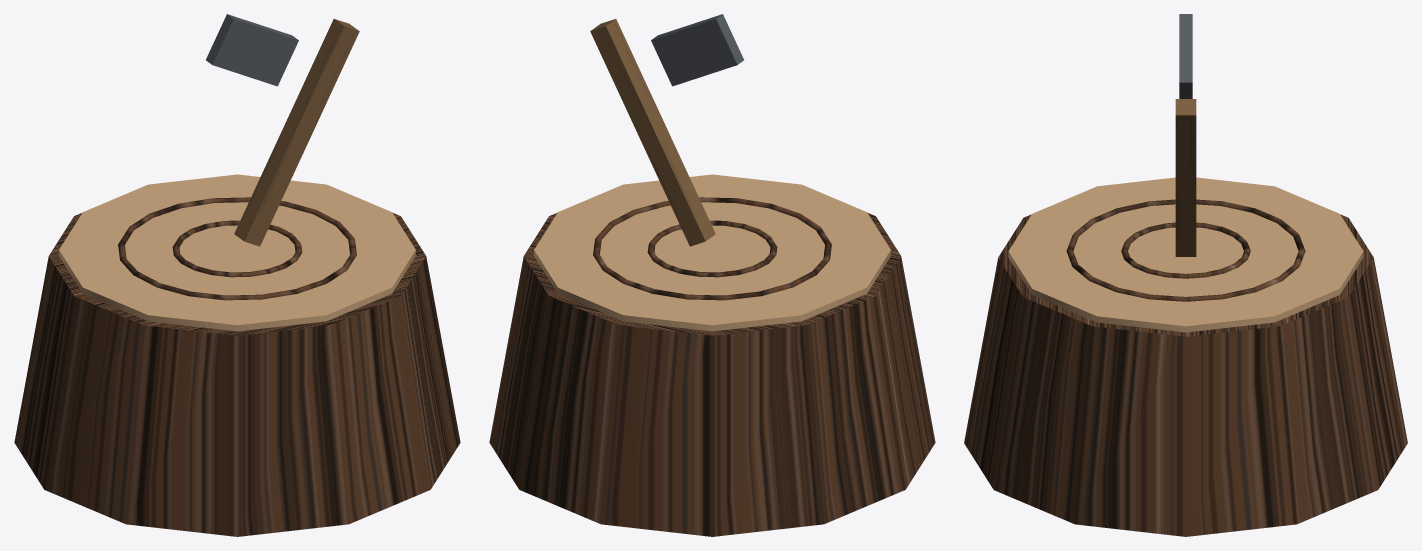
Rendered from stump.glb.
The picture shows the model from 3 angles, left to right: view 1: azimuth 30°, elevation 25°; view 2: azimuth 150°, elevation 25°; view 3: azimuth 270°, elevation 25°; orthographic projection.
Visible parts, largest first — view 1: stump; view 2: stump; view 3: stump.
Part boxes in pixels (x1,y1,x2,y2): stump: [14, 14, 460, 536]; stump: [489, 14, 935, 536]; stump: [964, 14, 1407, 536].
Size of the model in its own units: 1.3 by 1.38 by 1.3.
Materials: 4 (2 with a texture image).
